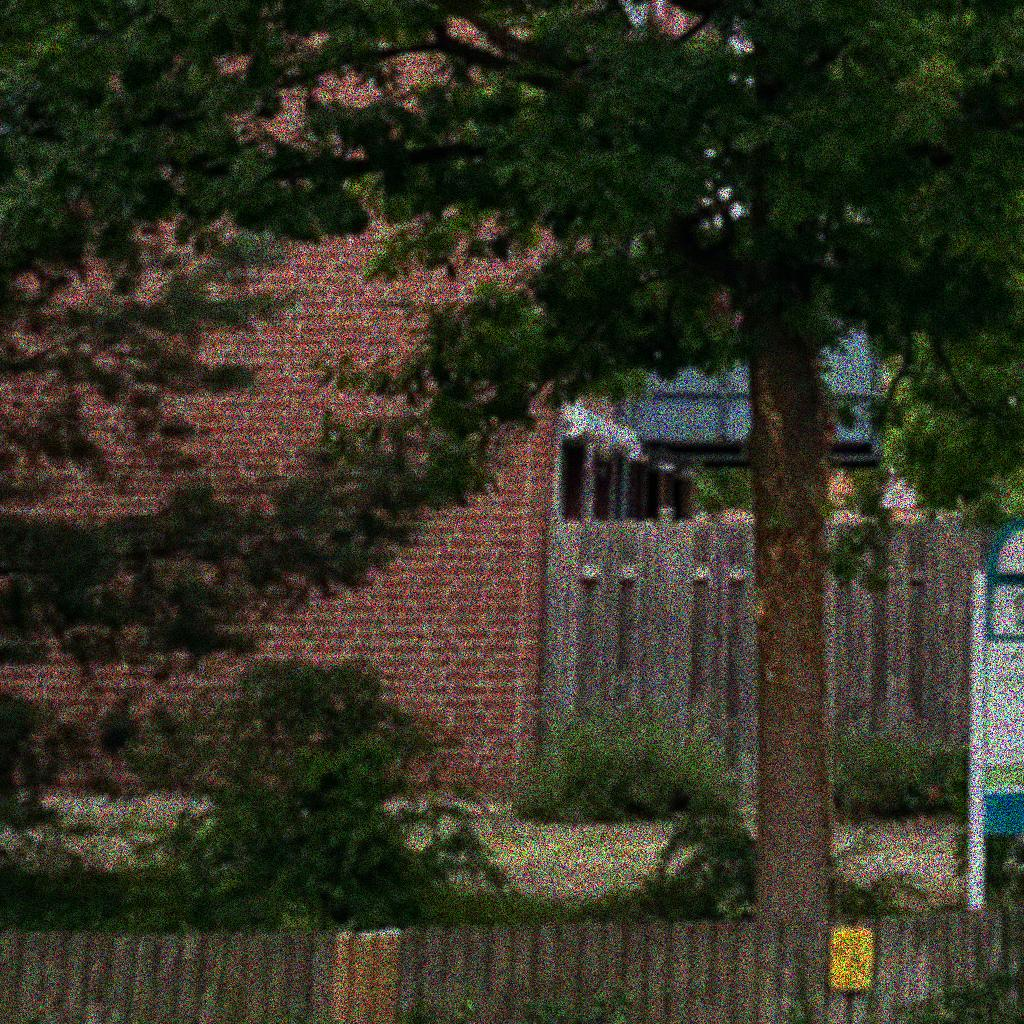tree: (172, 1, 1023, 928), (1, 1, 619, 885)
